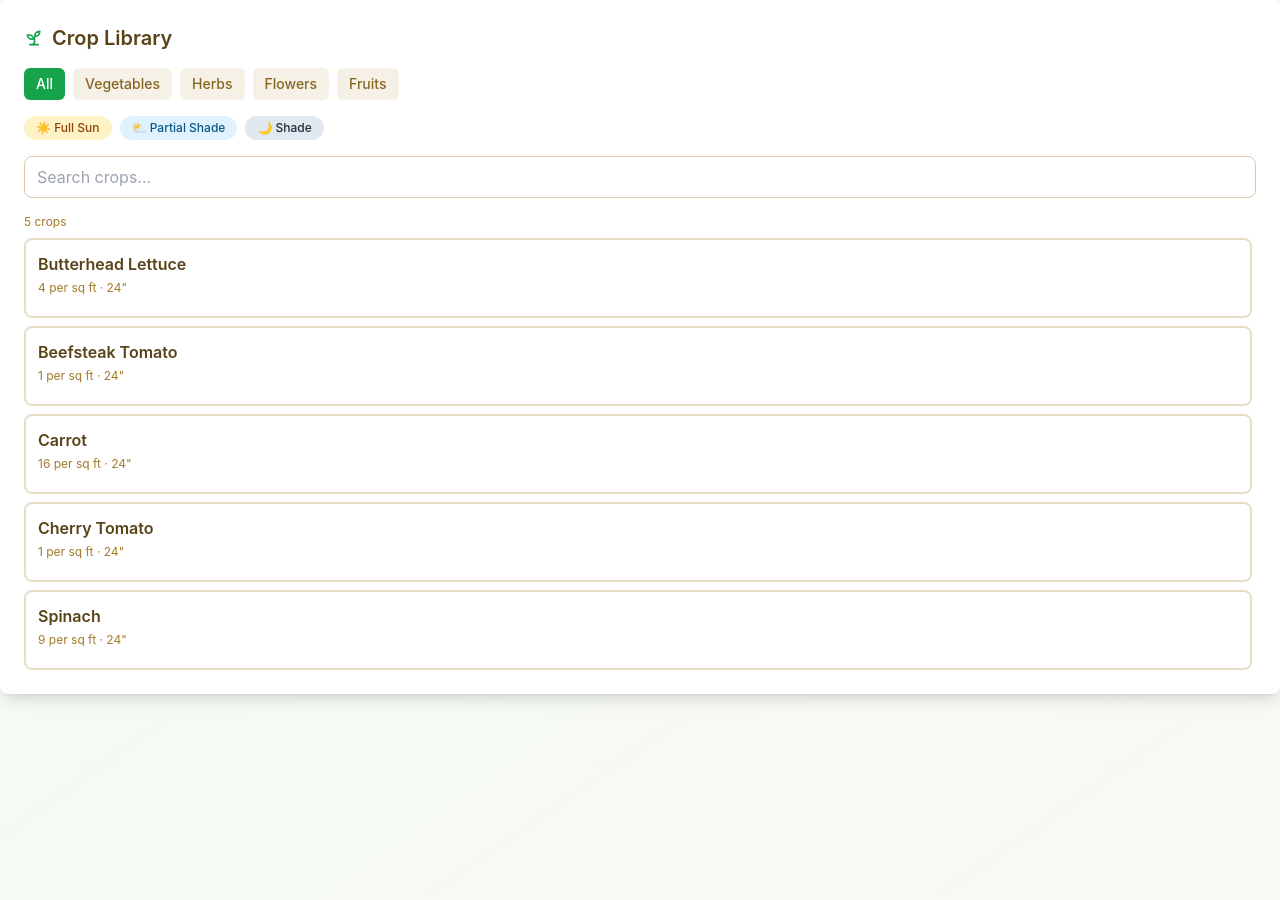
Test: CropLibrary › Search and Filter › clears search when clear button is clicked
Type "tom" into the field with placeholder "Search crops..." at (640, 177), box [24,156,1256,198]
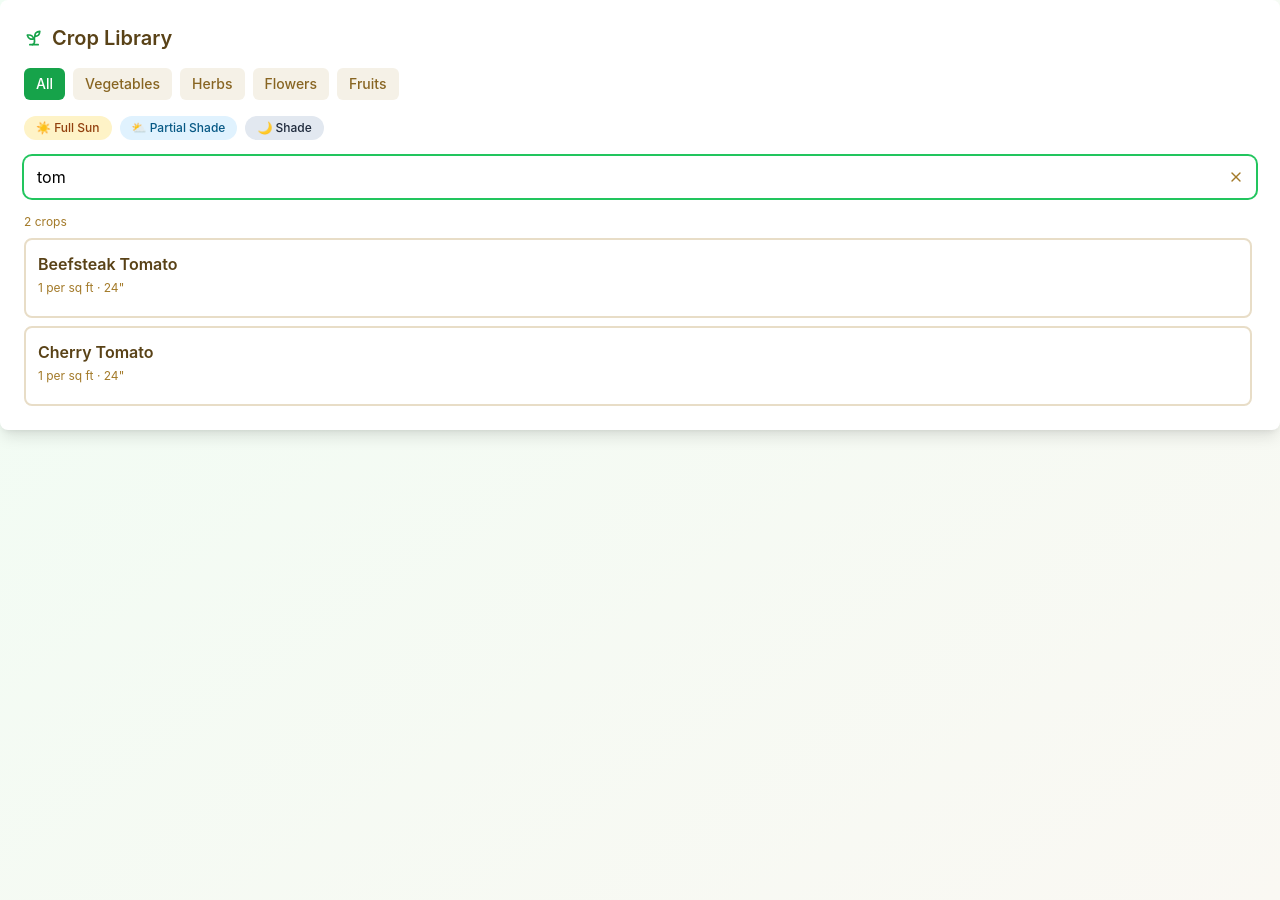
Click the button named "clear search" at (1236, 177), box [1224,165,1248,189]
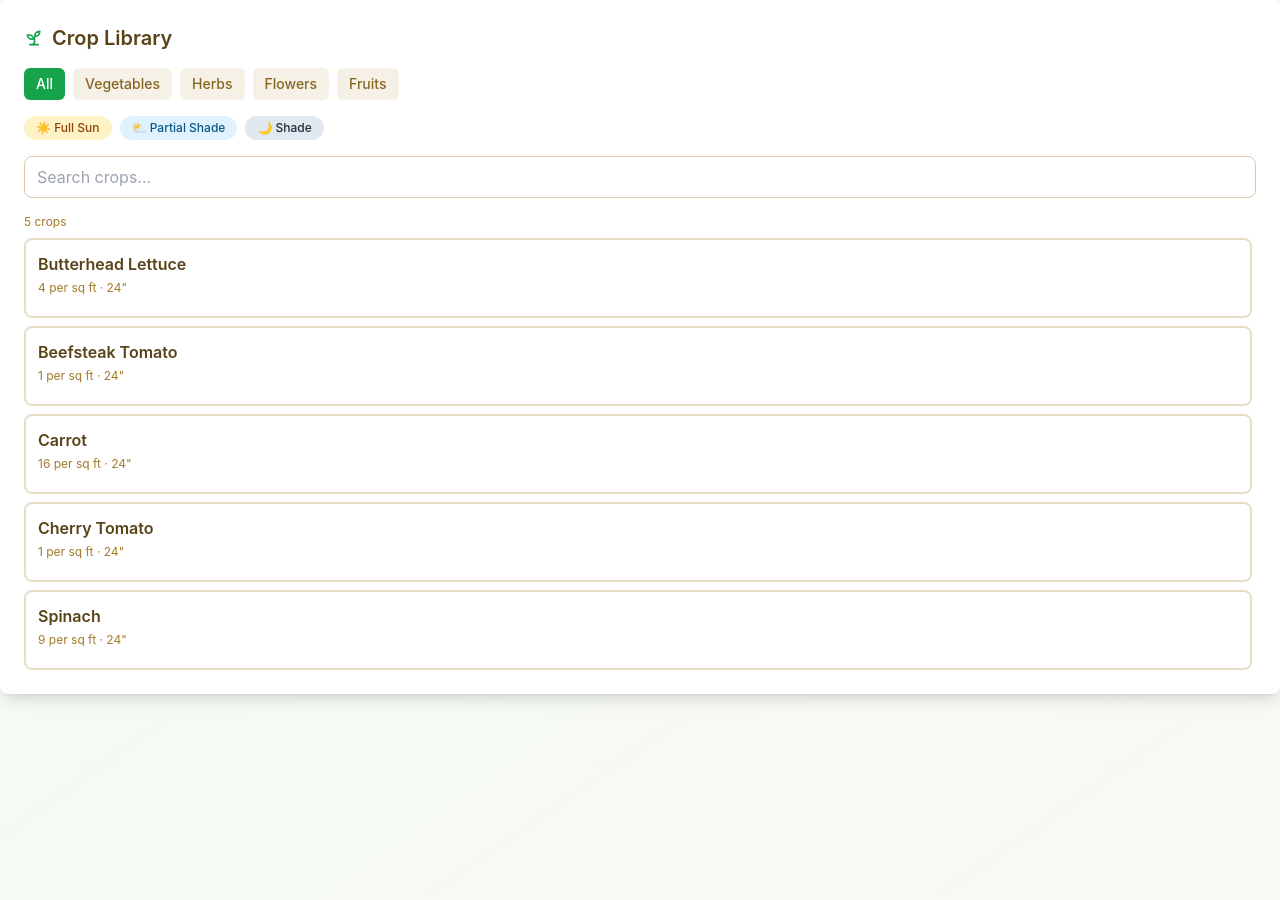
Now the field with placeholder "Search crops..." is empty, box [24,156,1256,198]
Now the text "Butterhead Lettuce" is shown, box [38,254,186,274]
